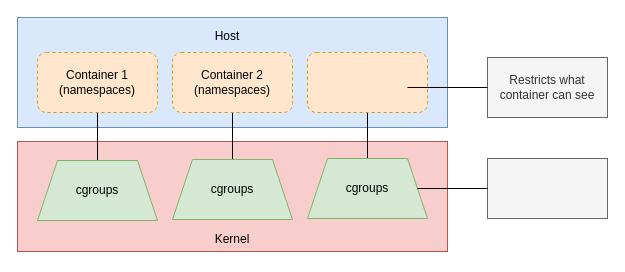
The diagram is 625 pixels wide and 272 high, and some of its shapes have lost their labels. The box of each missing label's shape, as (x1, y1, x2, y2) in pixels:
Container 3 (namespaces): (306, 52, 428, 112)
Restricts what container can use: (486, 158, 608, 218)
